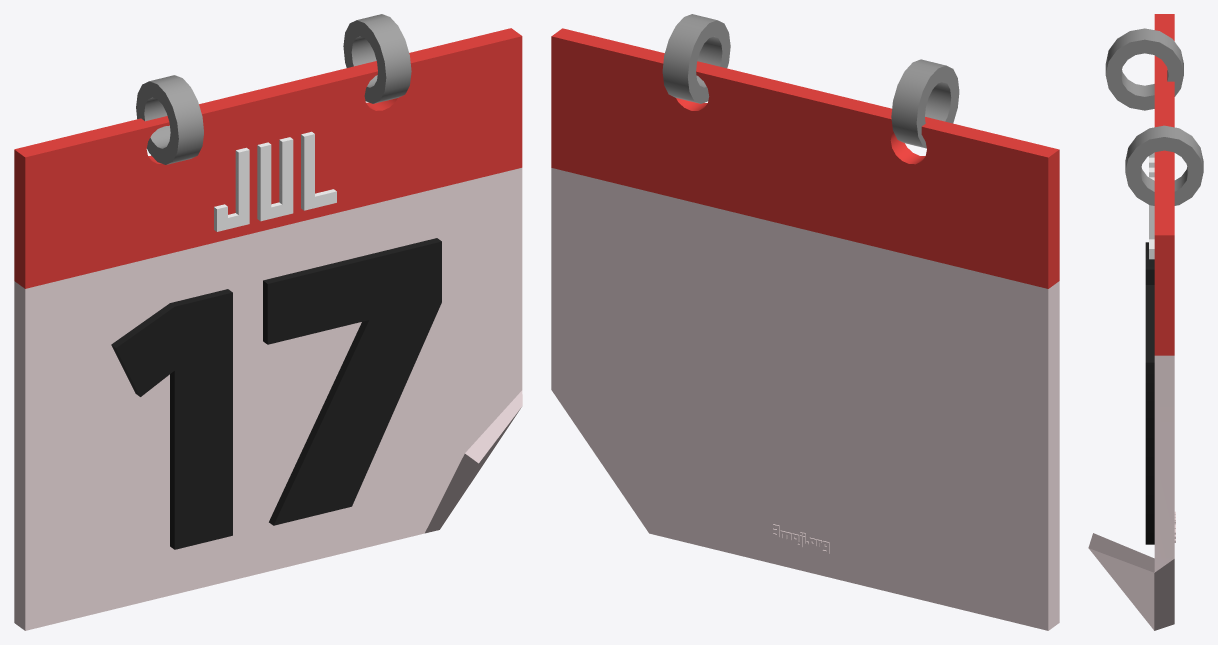
The model's file is tearoff_calendar.fbx.
The picture shows the model from 3 angles, left to right: view 1: azimuth 30°, elevation 25°; view 2: azimuth 150°, elevation 25°; view 3: azimuth 270°, elevation 25°; orthographic projection. The views are drawn at different scales.
Parts seen in each view (by area): view 1: Circle.2566; view 2: Circle.2566; view 3: Circle.2566.
Boxes of the visible parts, left/top/right/bottom form: Circle.2566: left=14, top=14, right=522, bottom=630; Circle.2566: left=551, top=14, right=1059, bottom=630; Circle.2566: left=1088, top=14, right=1203, bottom=630.
Bounding box in the file's own units: 233 × 233 × 51.24.
1 material, 1 textured.
